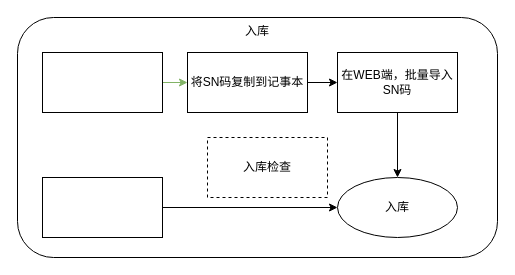
Some shapes in this 515 by 275 pixel diagram are drawn without their labels. Each missing label, with the centre of its shape:
"手机扫码入库" goes at point 102,207.
"扫码枪扫码" goes at point 102,82.
